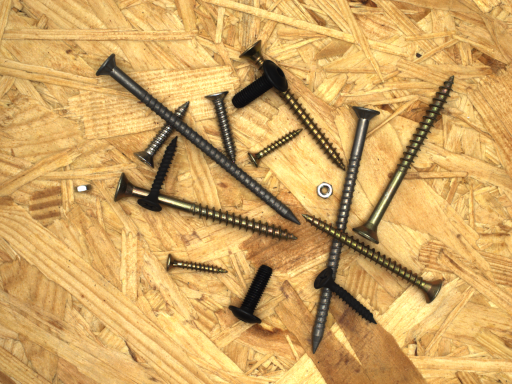screw_long: (76, 35, 327, 252), (287, 91, 391, 370)
